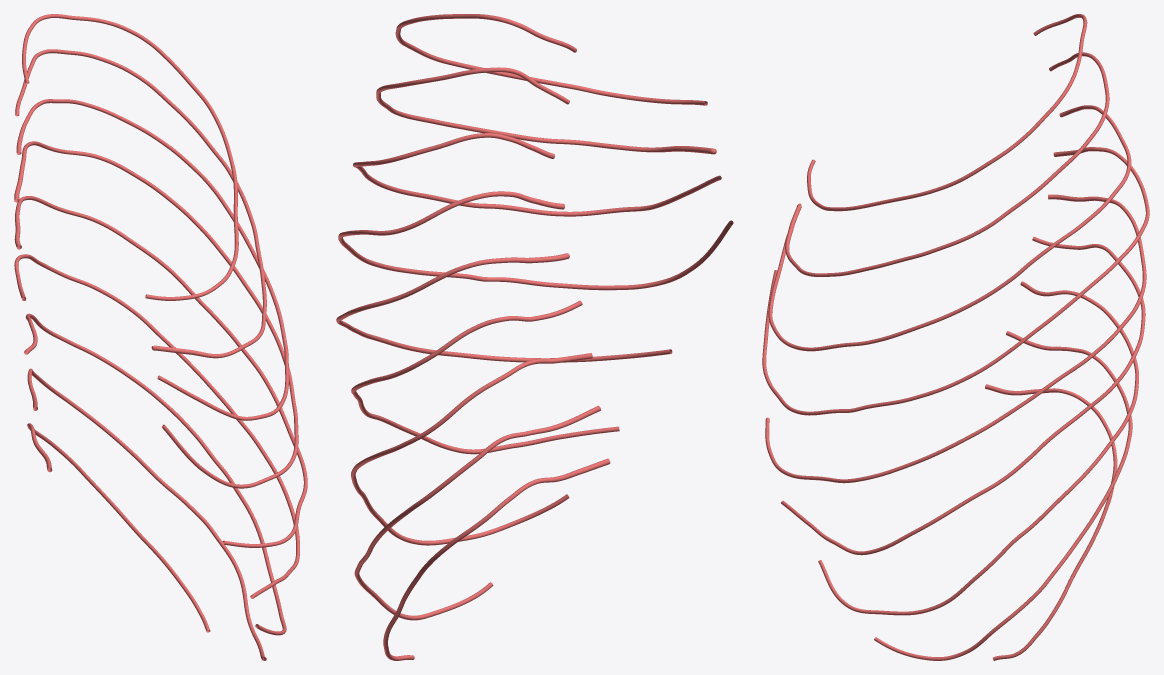
The model's file is Posterior_intercostal_arteries.l_BezierCurve.177.glb.
The picture shows the model from 3 angles, left to right: view 1: azimuth 30°, elevation 25°; view 2: azimuth 150°, elevation 25°; view 3: azimuth 270°, elevation 25°; orthographic projection. The views are drawn at different scales.
Visible parts, largest first — view 1: Posterior_intercostal_arteries.l_BezierCurve.177; view 2: Posterior_intercostal_arteries.l_BezierCurve.177; view 3: Posterior_intercostal_arteries.l_BezierCurve.177.
Part boxes in pixels (bbox=[...]): Posterior_intercostal_arteries.l_BezierCurve.177: bbox=[14, 14, 307, 660]; Posterior_intercostal_arteries.l_BezierCurve.177: bbox=[336, 14, 733, 660]; Posterior_intercostal_arteries.l_BezierCurve.177: bbox=[762, 14, 1149, 660].
Bounding box in the file's own units: 0.1229 × 0.3347 × 0.1998.
